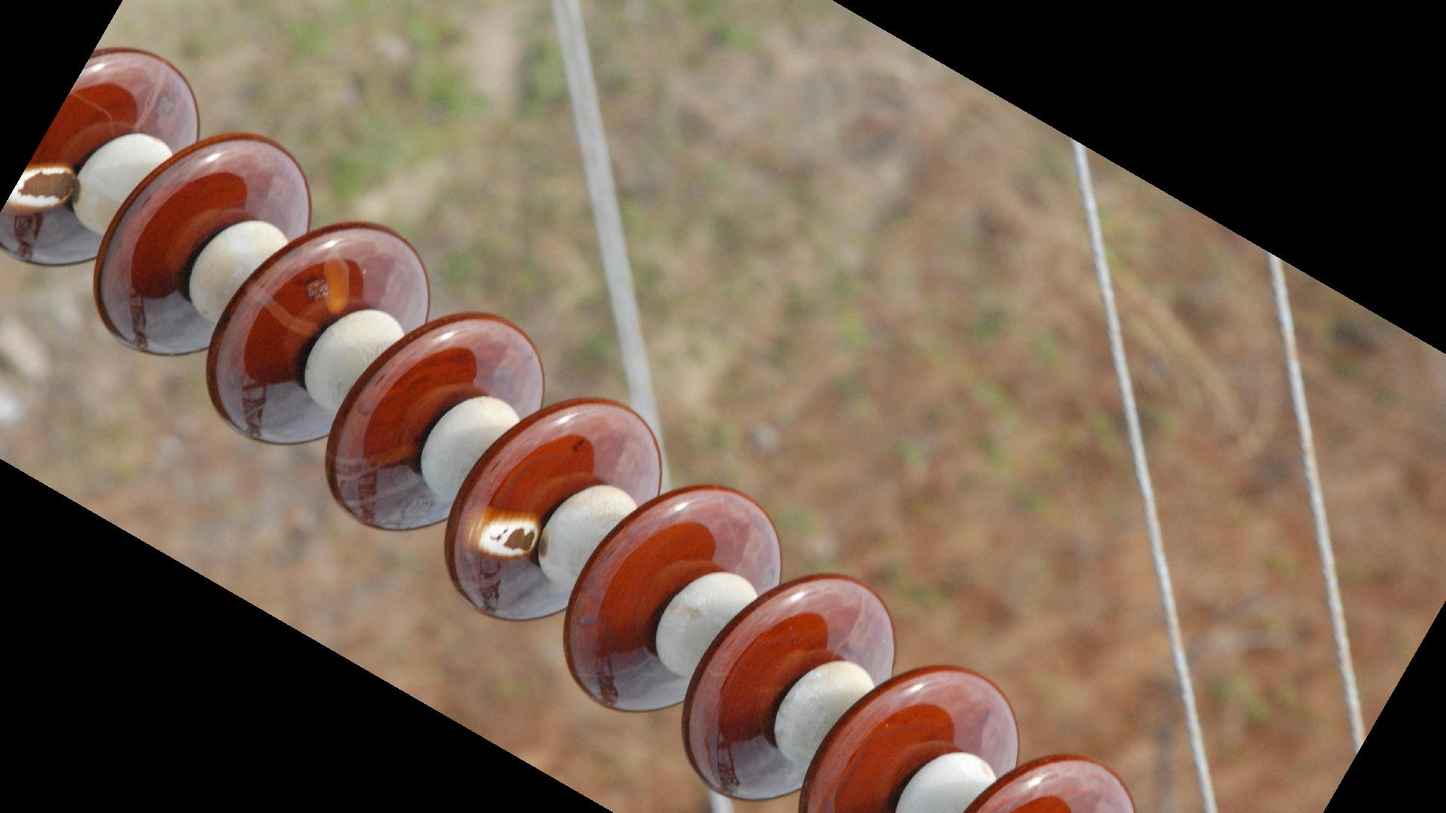insulator: (1, 43, 1143, 813)
insulator_flashover: (456, 502, 543, 561), (1, 158, 81, 217), (319, 248, 355, 319)
